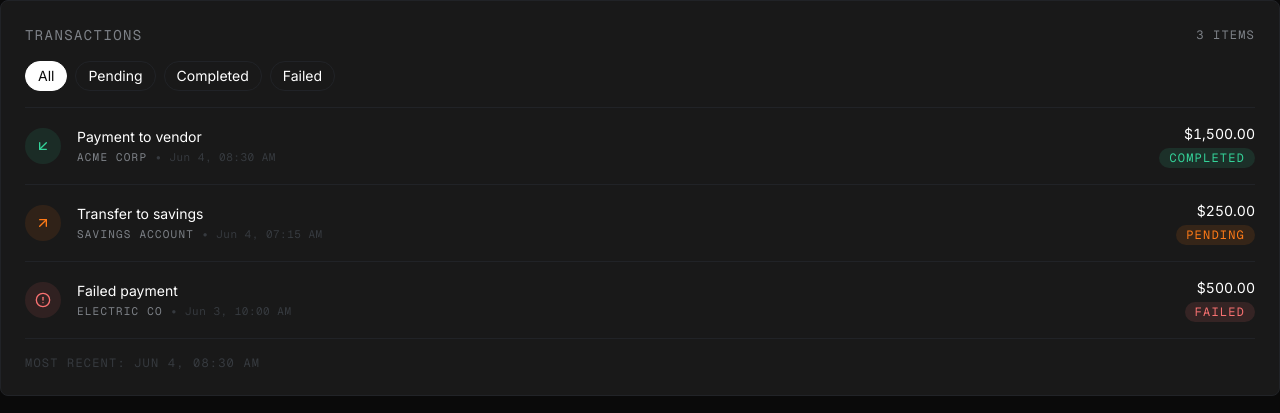
Test: TransactionList › filters to show only Pending transactions when Pending filter clicked
This screenshot has width=1280, height=413.
Expected: the text "Payment to vendor" is shown, [77,128,202,145]
What coordinates should you click on to do the following:
click the button "Pending"
I would click on:
 (116, 76)
Its box is [76,61,156,91].
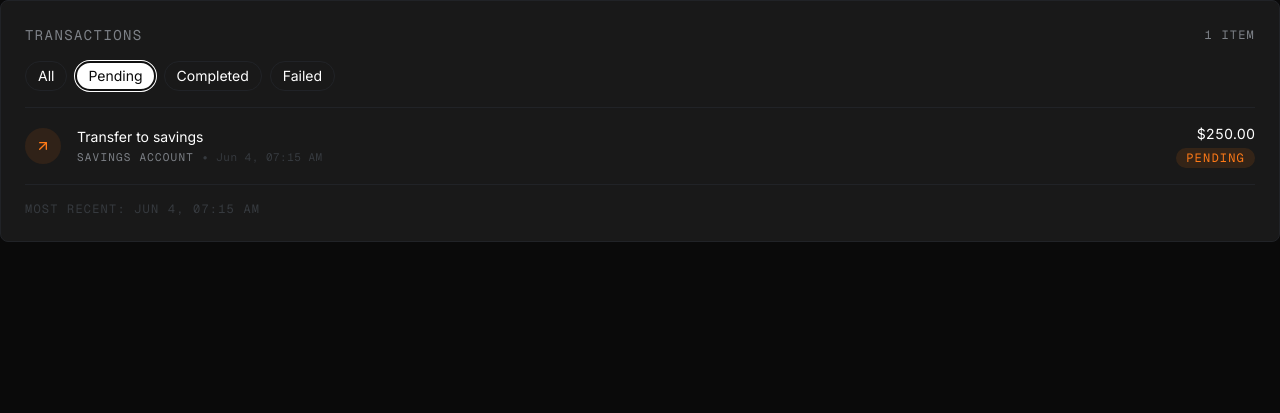
Expected: the text "Transfer to savings" is shown, [77,128,204,145]
Expected: the text "Payment to vendor" is gone
Expected: the text "Failed payment" is gone
